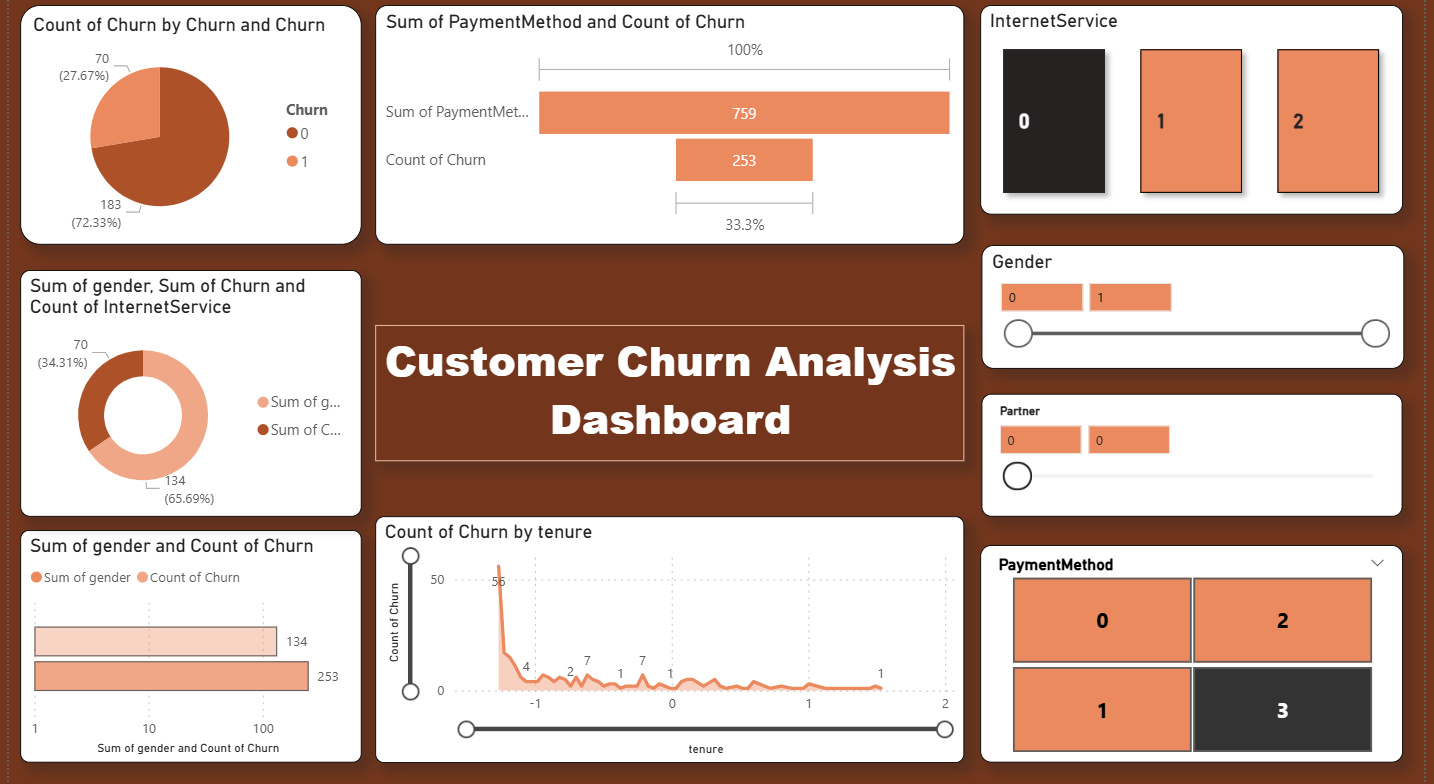

The page's visual inventory and layout, read from the dashboard file:
{"tool":"powerbi","page":{"name":"Page 1","canvas":[1280,720],"ordinal":0},"visuals":[{"type":"pieChart","fields":{"Y":["CountNonNull(cleaned_churn_dataset.Churn)"],"Category":["cleaned_churn_dataset.Churn"],"Series":["cleaned_churn_dataset.Churn"]},"box":[10,8.6,308.6,217.1],"z":0},{"type":"clusteredBarChart","fields":{"Y":["Sum(cleaned_churn_dataset.gender)","CountNonNull(cleaned_churn_dataset.Churn)"]},"box":[10,484.3,308.6,210],"z":1000},{"type":"funnel","fields":{"Y":["Sum(cleaned_churn_dataset.PaymentMethod)","CountNonNull(cleaned_churn_dataset.Churn)"]},"box":[331.4,8.6,532.9,217.1],"z":2000},{"type":"lineChart","fields":{"Category":["cleaned_churn_dataset.tenure"],"Y":["CountNonNull(cleaned_churn_dataset.Churn)"]},"box":[331.4,471.4,532.9,222.9],"z":3000},{"type":"advancedSlicerVisual","fields":{"Values":["cleaned_churn_dataset.InternetService"]},"box":[880,21.4,381.4,190],"z":4000},{"type":"donutChart","fields":{"Y":["Sum(cleaned_churn_dataset.gender)","Sum(cleaned_churn_dataset.Churn)"]},"box":[10,248.6,308.6,222.9],"z":5000},{"type":"slicer","title":"Gender","fields":{"Values":["cleaned_churn_dataset.gender"]},"box":[880,241.4,381.4,112.9],"z":6000},{"type":"textbox","box":[331.4,298.6,532.9,122.9],"z":7000},{"type":"slicer","fields":{"Values":["cleaned_churn_dataset.PaymentMethod"]},"box":[880,381.4,381.4,178.6],"z":8000},{"type":"slicer","fields":{"Values":["cleaned_churn_dataset.Partner"]},"box":[898.8,598.3,381.5,112.5],"z":9000}]}

Visuals, with their boxes in screenshot pixels (x1, y1, x2, y2), scaled from the page's 1280x720 canvas onto the 1434x784 screenshot:
pieChart - CountNonNull(cleaned_churn_dataset.Churn) x cleaned_churn_dataset.Churn: 11, 9, 357, 246
clusteredBarChart - Sum(cleaned_churn_dataset.gender) x CountNonNull(cleaned_churn_dataset.Churn): 11, 527, 357, 756
funnel - Sum(cleaned_churn_dataset.PaymentMethod) x CountNonNull(cleaned_churn_dataset.Churn): 371, 9, 968, 246
lineChart - cleaned_churn_dataset.tenure x CountNonNull(cleaned_churn_dataset.Churn): 371, 513, 968, 756
advancedSlicerVisual - cleaned_churn_dataset.InternetService: 986, 23, 1413, 230
donutChart - Sum(cleaned_churn_dataset.gender) x Sum(cleaned_churn_dataset.Churn): 11, 271, 357, 513
"Gender" slicer: 986, 263, 1413, 386
textbox: 371, 325, 968, 459
slicer - cleaned_churn_dataset.PaymentMethod: 986, 415, 1413, 610
slicer - cleaned_churn_dataset.Partner: 1007, 651, 1433, 774
